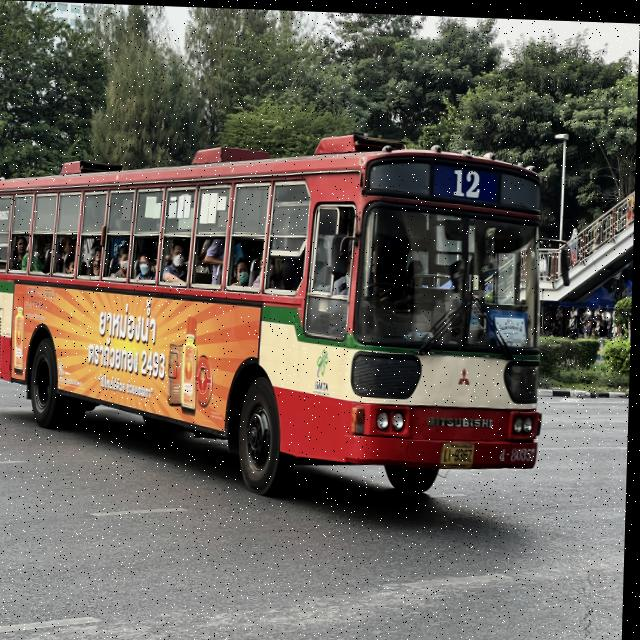BMTA-bus: (0, 124, 552, 503)
Bus-Line-Number: (445, 158, 491, 207)
Destination-Sign-Normal: (485, 296, 535, 338)
